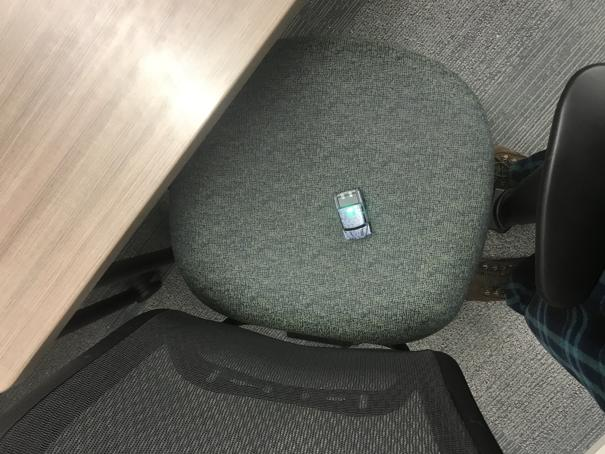MXT: (334, 188, 375, 242)
